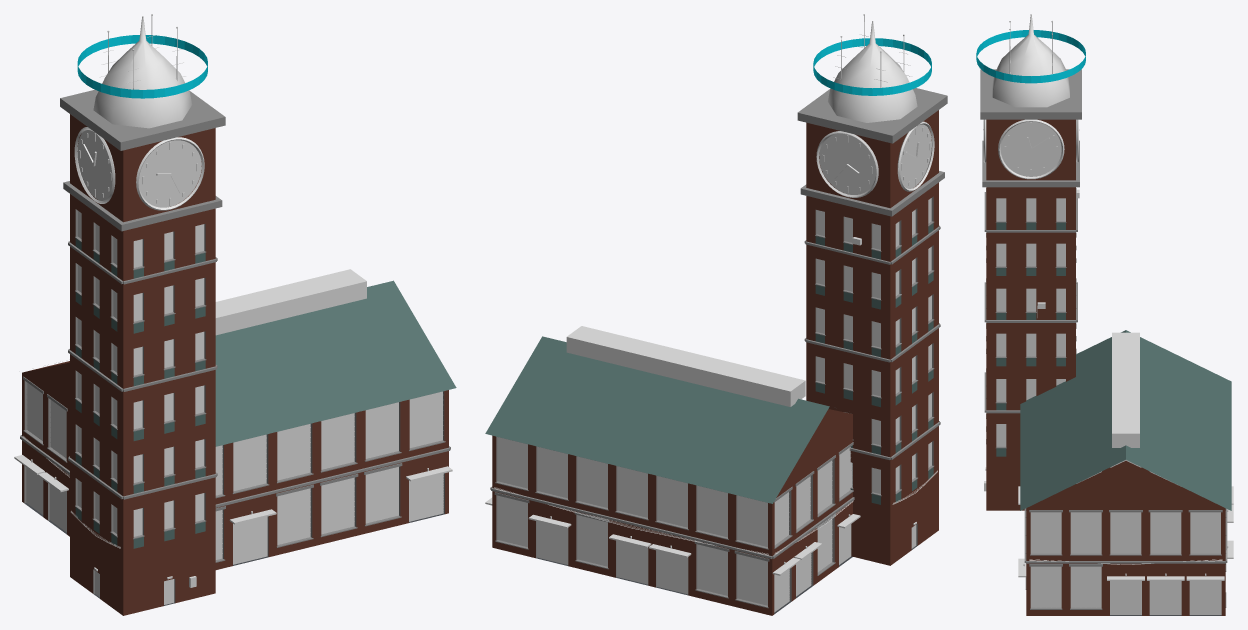
File: LM_CW_ClockPumpHouse.fbx
3 views of the same model, side by side, from view 1: azimuth 30°, elevation 25°; view 2: azimuth 150°, elevation 25°; view 3: azimuth 270°, elevation 25° (orthographic). The views are drawn at different scales.
Parts seen in each view (by area): view 1: LM_CW_ClockPumpHouse_LOD0; view 2: LM_CW_ClockPumpHouse_LOD0; view 3: LM_CW_ClockPumpHouse_LOD0.
Boxes of the visible parts, <box> form: LM_CW_ClockPumpHouse_LOD0: <box>14,14,456,615</box>; LM_CW_ClockPumpHouse_LOD0: <box>485,14,947,615</box>; LM_CW_ClockPumpHouse_LOD0: <box>976,14,1233,615</box>.
Size of what is drawn, in the model's own units: 35.8 by 52.9 by 25.8.
